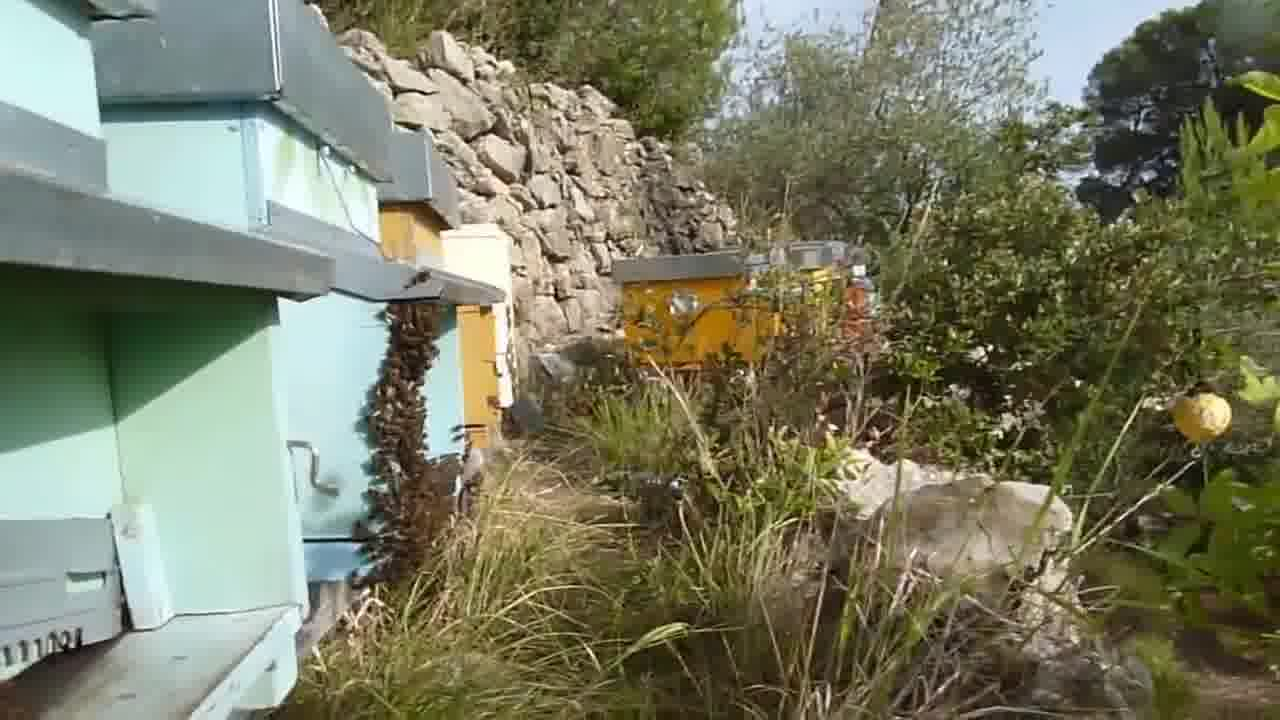bee: (357, 455, 432, 554), (358, 378, 432, 451), (381, 306, 440, 376)
